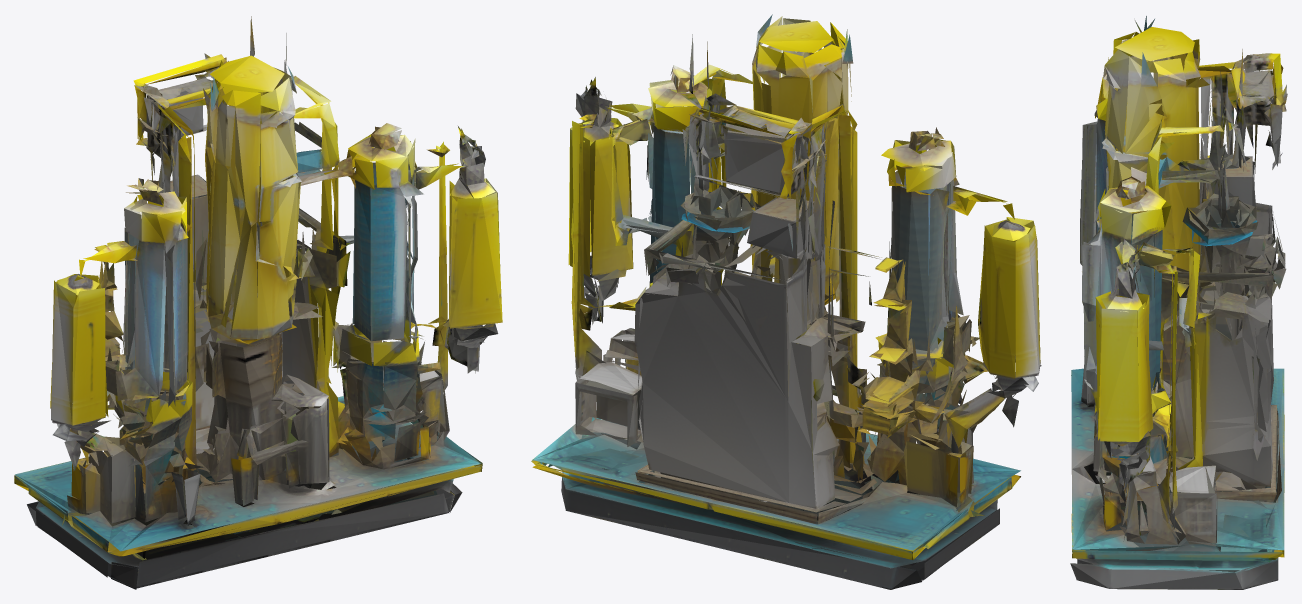
The model's file is oxygen_plant_t2.fbx.
3 renders of one model, left to right at view 1: azimuth 30°, elevation 25°; view 2: azimuth 150°, elevation 25°; view 3: azimuth 270°, elevation 25°, orthographic. The views are drawn at different scales.
Visible parts, largest first — view 1: oxygen_plant_t2; view 2: oxygen_plant_t2; view 3: oxygen_plant_t2.
Boxes of the visible parts, bbox=[...] form: oxygen_plant_t2: bbox=[14, 16, 502, 589]; oxygen_plant_t2: bbox=[531, 14, 1041, 589]; oxygen_plant_t2: bbox=[1070, 16, 1287, 589].
Bounding box in the file's own units: 3.98 × 3.99 × 1.65.
Materials: 1 (1 with a texture image).
